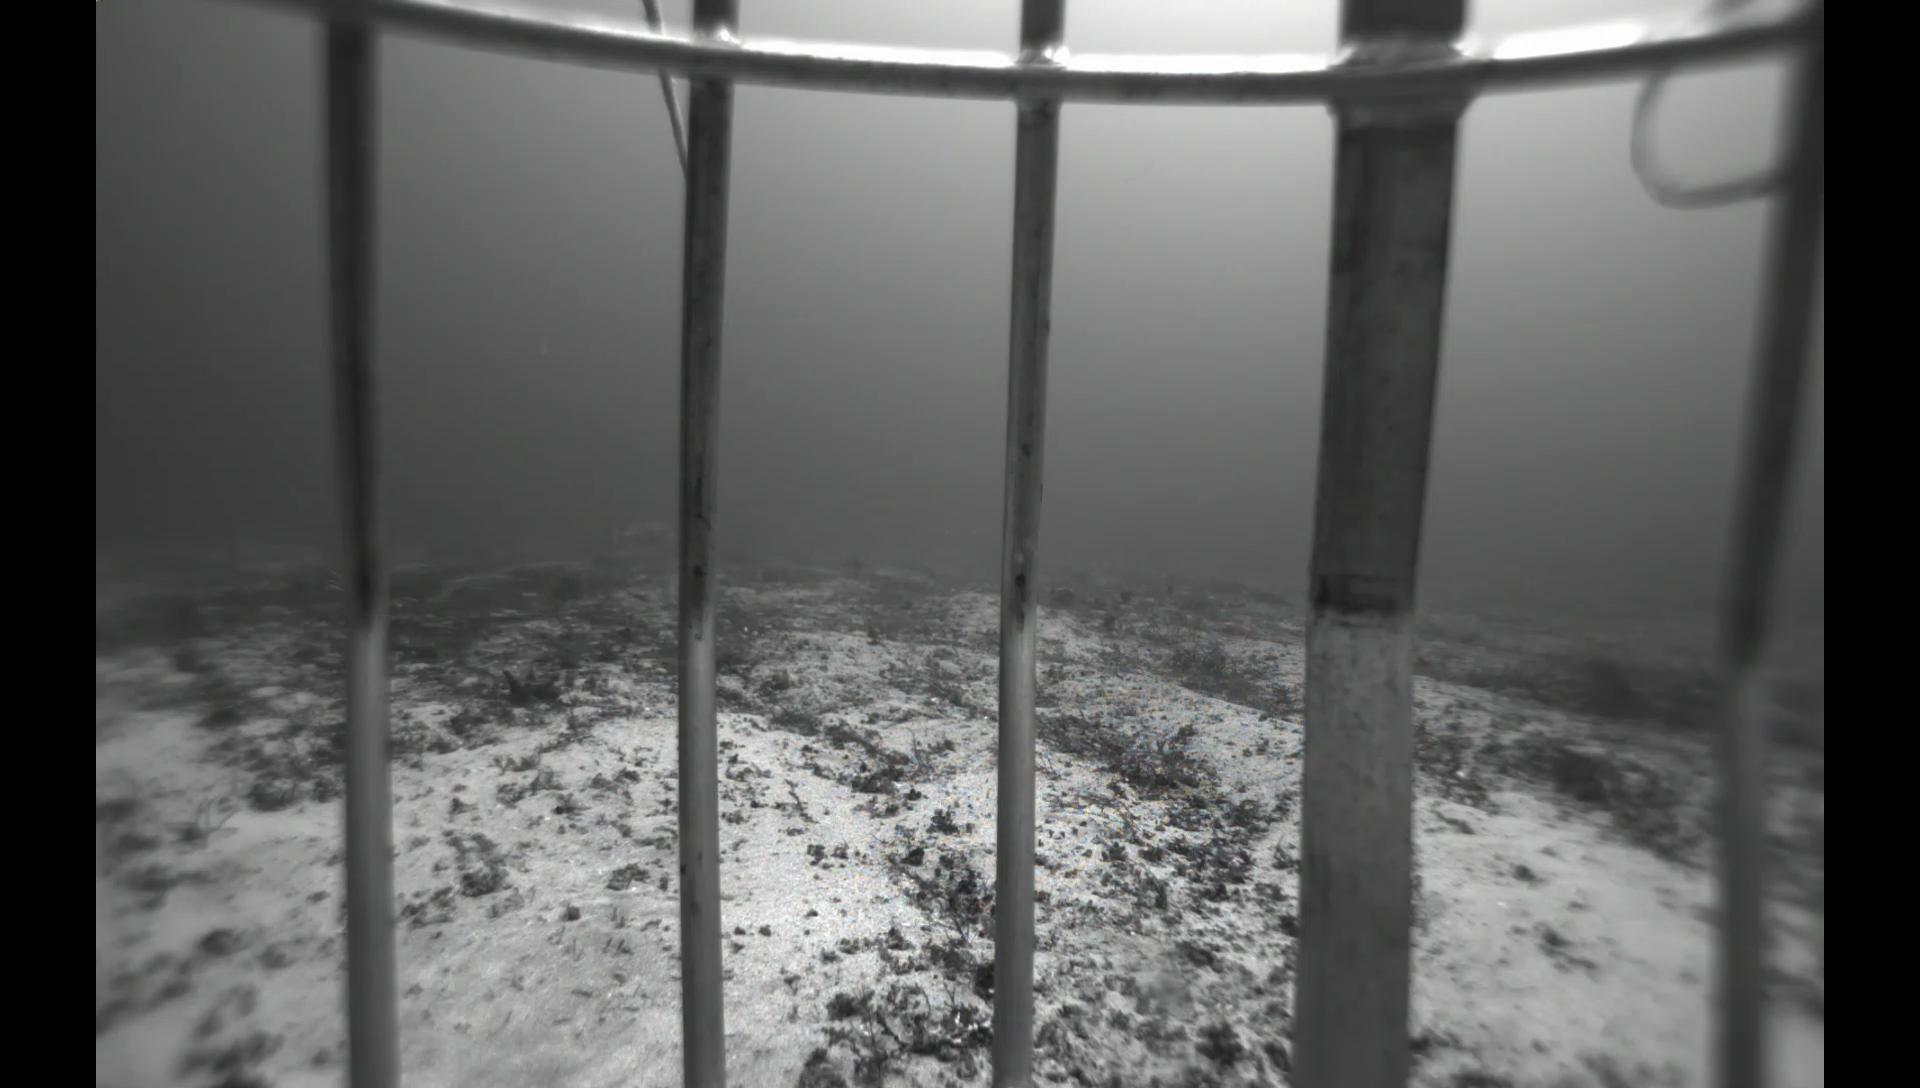EPINEPHELUSMORIO-170021211: (599, 513, 676, 555)
PRIACANTHUSARENATUS-170050101: (829, 553, 876, 580)
PTEROIS-168011900: (318, 553, 430, 620)
